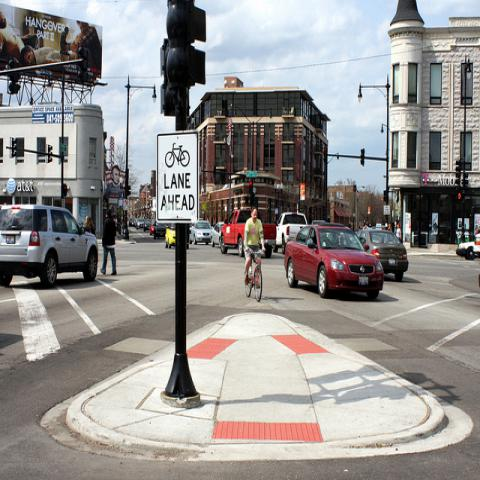car: (82, 201, 478, 289), (1, 204, 98, 287), (282, 225, 384, 299), (357, 228, 410, 281), (456, 231, 479, 262), (189, 220, 212, 246), (210, 222, 225, 248), (153, 219, 169, 240), (165, 223, 176, 250), (143, 219, 152, 232), (150, 223, 155, 235), (312, 221, 325, 224)
truck: (219, 209, 277, 258), (271, 209, 318, 255)
